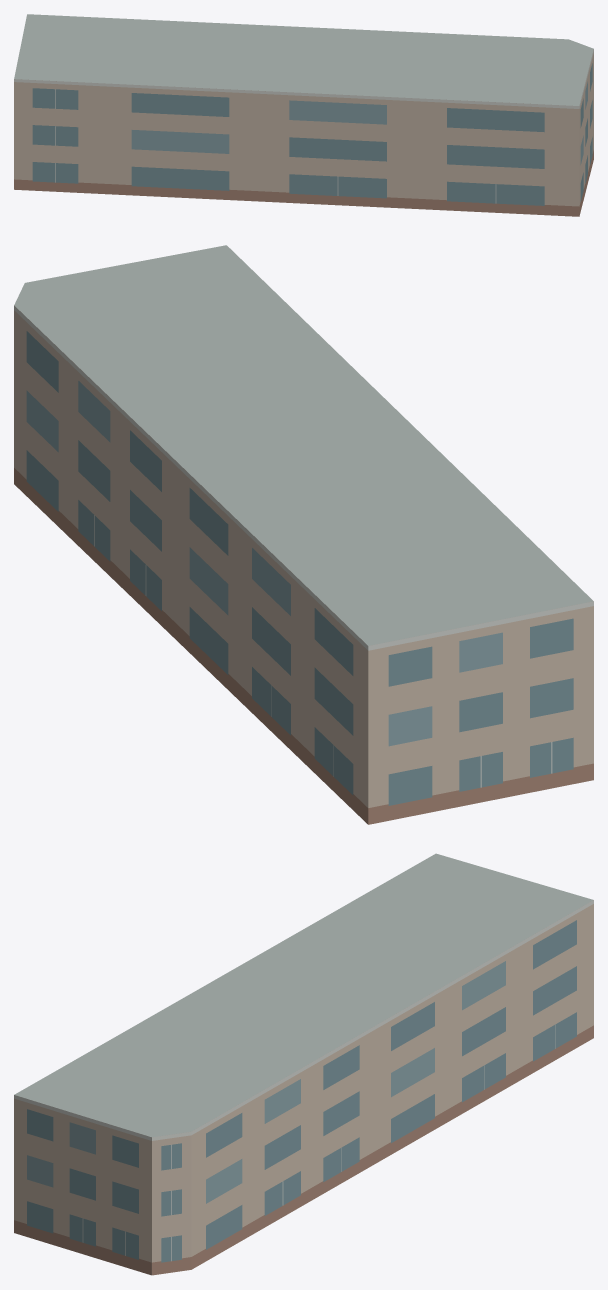
Rendered from survey-upis-32553364.glb.
3 views of the same model, one above another, from view 1: azimuth 30°, elevation 25°; view 2: azimuth 150°, elevation 25°; view 3: azimuth 270°, elevation 25° (orthographic). The views are drawn at different scales.
Parts seen in each view (by area): view 1: survey-upis-32553364.tmp; view 2: survey-upis-32553364.tmp; view 3: survey-upis-32553364.tmp.
Boxes of the visible parts, bbox=[...] form: survey-upis-32553364.tmp: bbox=[14, 14, 593, 216]; survey-upis-32553364.tmp: bbox=[14, 245, 593, 824]; survey-upis-32553364.tmp: bbox=[14, 853, 593, 1275].
Size of the model in its own units: 40.33 by 9.15 by 34.82.
